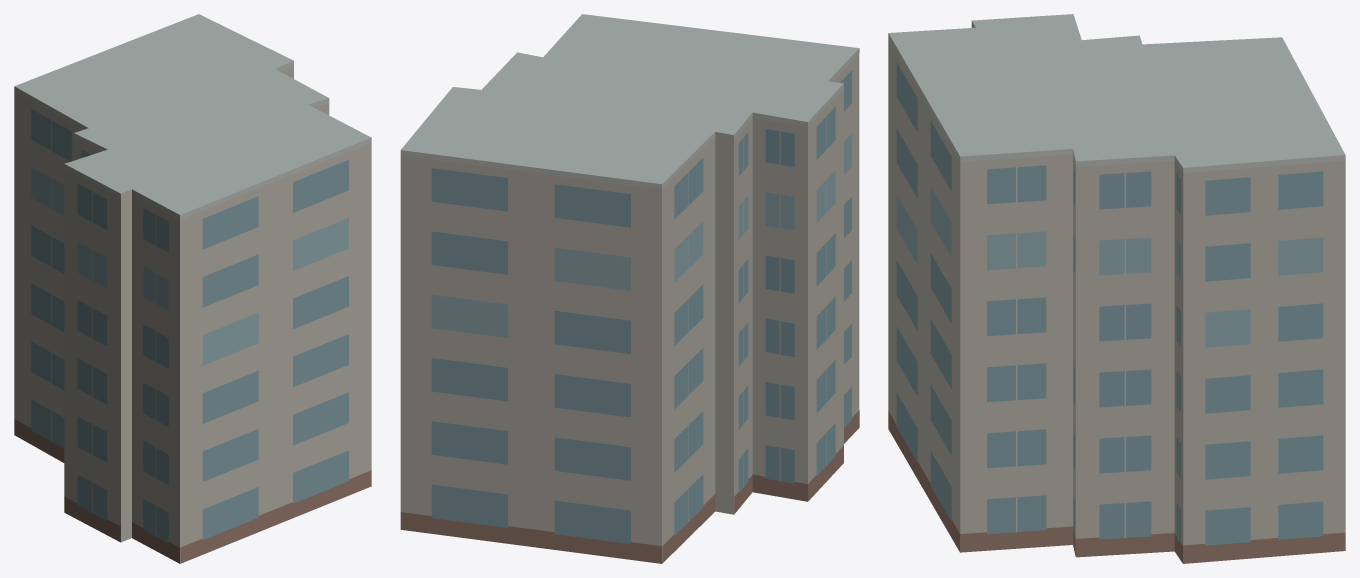
Rendered from survey-upis-32573282.glb.
3 views of the same model, side by side, from view 1: azimuth 30°, elevation 25°; view 2: azimuth 150°, elevation 25°; view 3: azimuth 270°, elevation 25° (orthographic). The views are drawn at different scales.
Parts seen in each view (by area): view 1: survey-upis-32573282.tmp; view 2: survey-upis-32573282.tmp; view 3: survey-upis-32573282.tmp.
Part boxes in pixels (<box>): survey-upis-32573282.tmp: <box>14,14,371,563</box>; survey-upis-32573282.tmp: <box>400,14,859,563</box>; survey-upis-32573282.tmp: <box>888,14,1345,563</box>.
Size of the model in its own units: 14.93 by 17.9 by 18.74.
